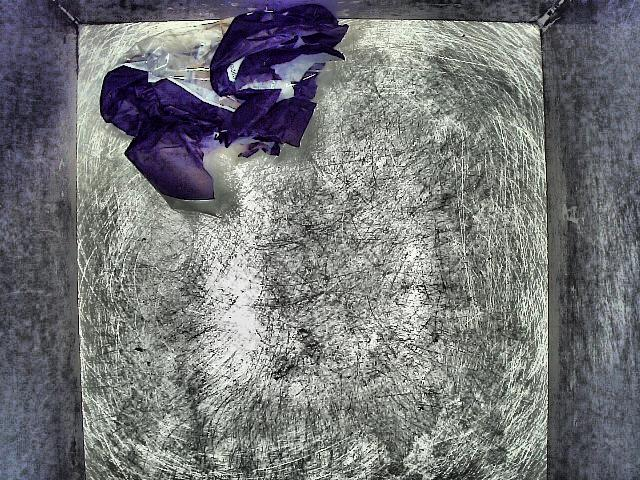Paper: (97, 2, 360, 220)
